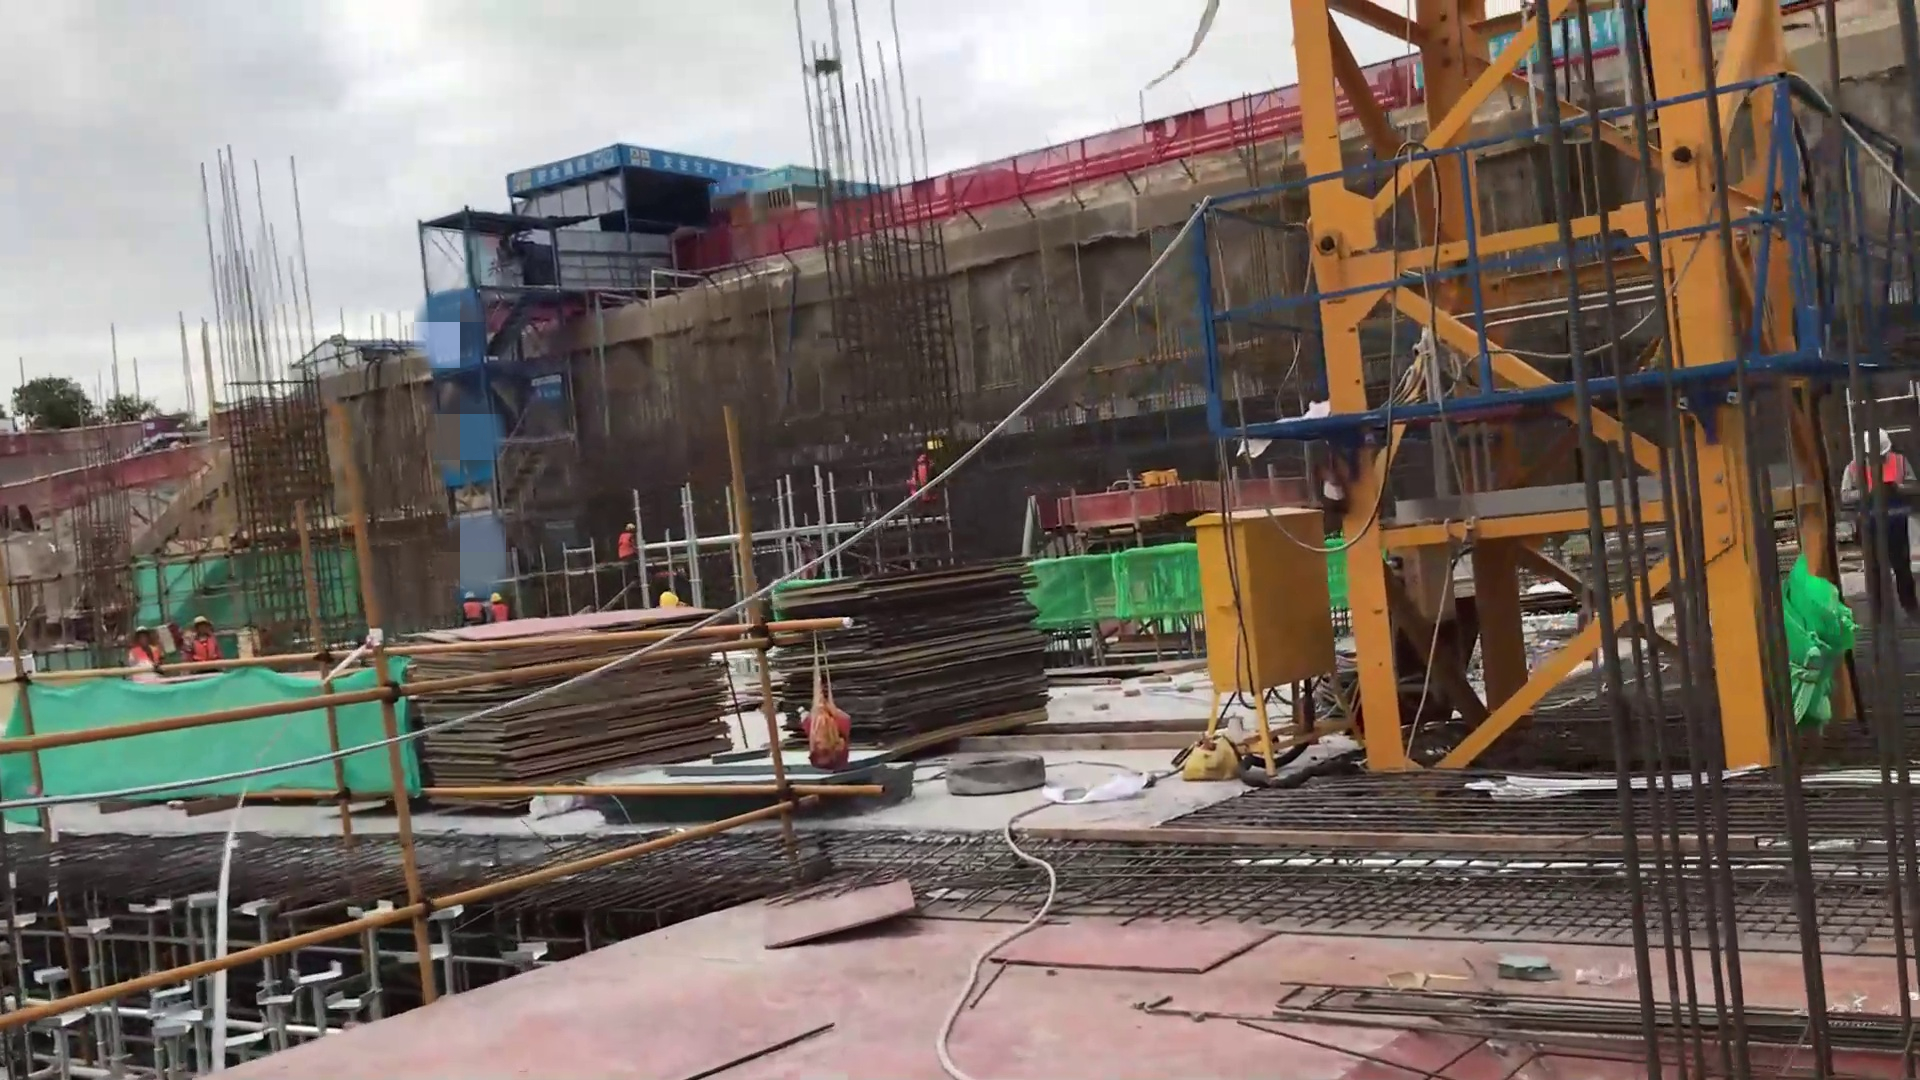board: (413, 643, 723, 783), (770, 581, 1063, 728)
ebox: (1194, 511, 1309, 717)
fence: (870, 95, 1288, 205)
helmet: (1857, 427, 1895, 457), (130, 626, 153, 643), (661, 592, 679, 611), (191, 614, 215, 628), (923, 437, 944, 447), (491, 594, 503, 602), (465, 592, 479, 599), (626, 522, 634, 532)
person: (1842, 395, 1915, 616), (909, 435, 949, 536), (187, 619, 226, 664), (126, 622, 161, 673), (651, 581, 694, 615), (613, 520, 643, 565), (461, 591, 484, 624), (489, 593, 509, 623)
rebar: (1223, 972, 1920, 1061)
vest: (1851, 452, 1904, 534), (914, 455, 941, 502), (191, 635, 214, 661), (134, 646, 157, 665), (621, 531, 634, 560), (487, 606, 507, 621), (466, 603, 481, 618)
